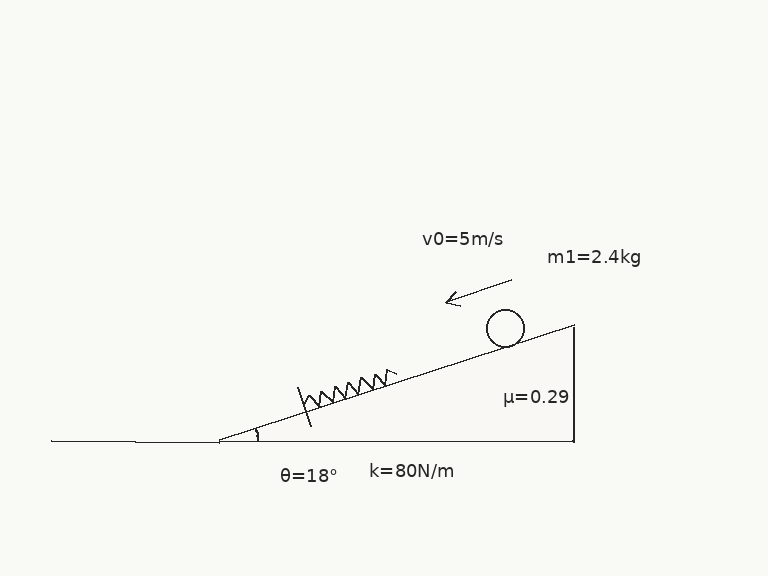ball: (484, 307, 526, 349)
ramp: (216, 324, 575, 443)
spring: (302, 367, 398, 408)
